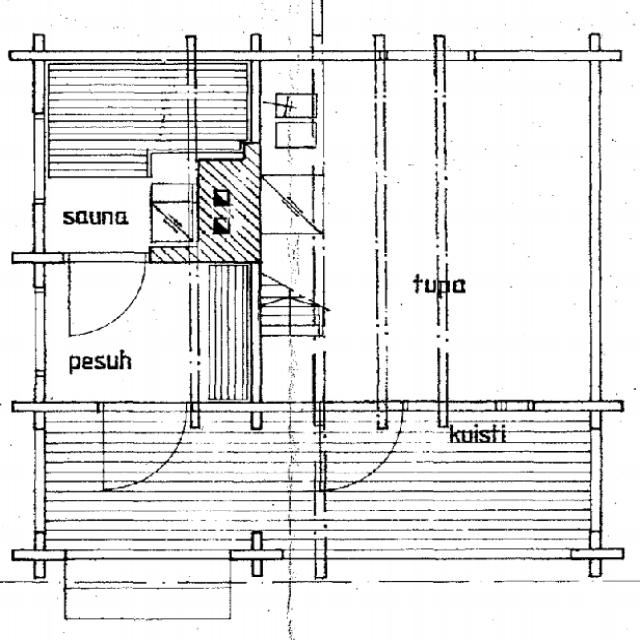door: (102, 400, 185, 489), (321, 400, 403, 488), (68, 252, 144, 336)
